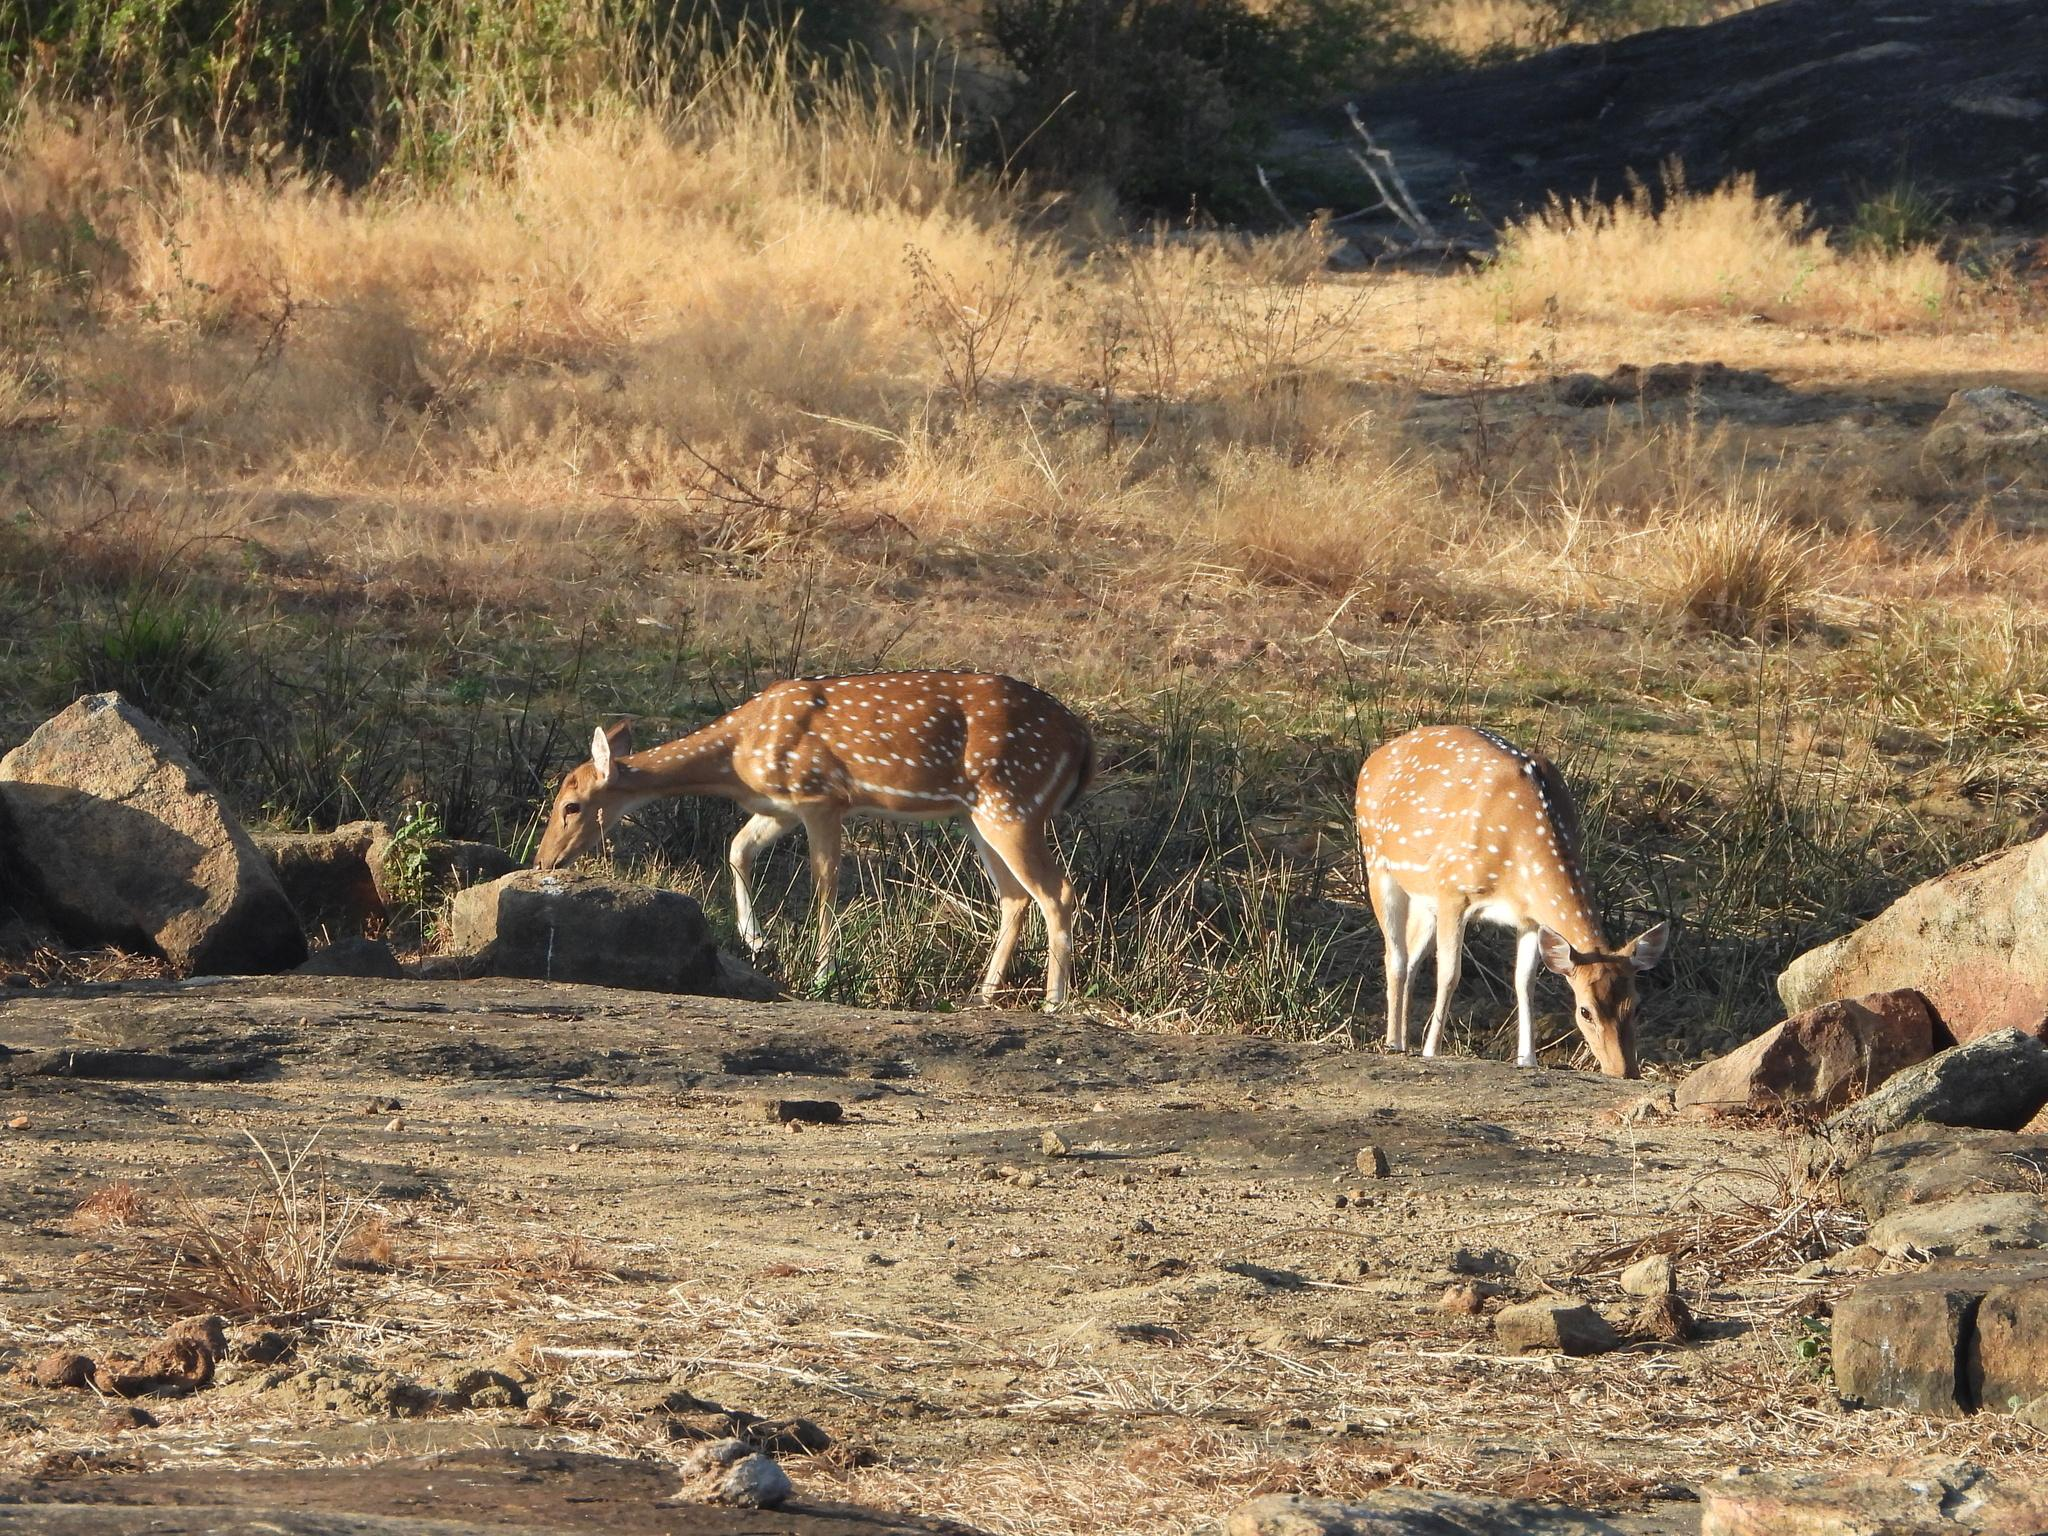Deer: (539, 670, 1097, 1002), (1356, 726, 1666, 1076)
